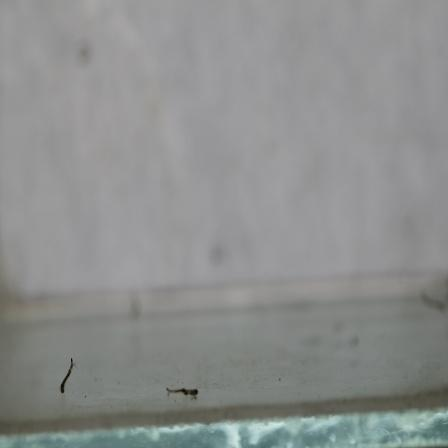Jentik-Nyamuk: (57, 354, 79, 401), (159, 380, 205, 401)
